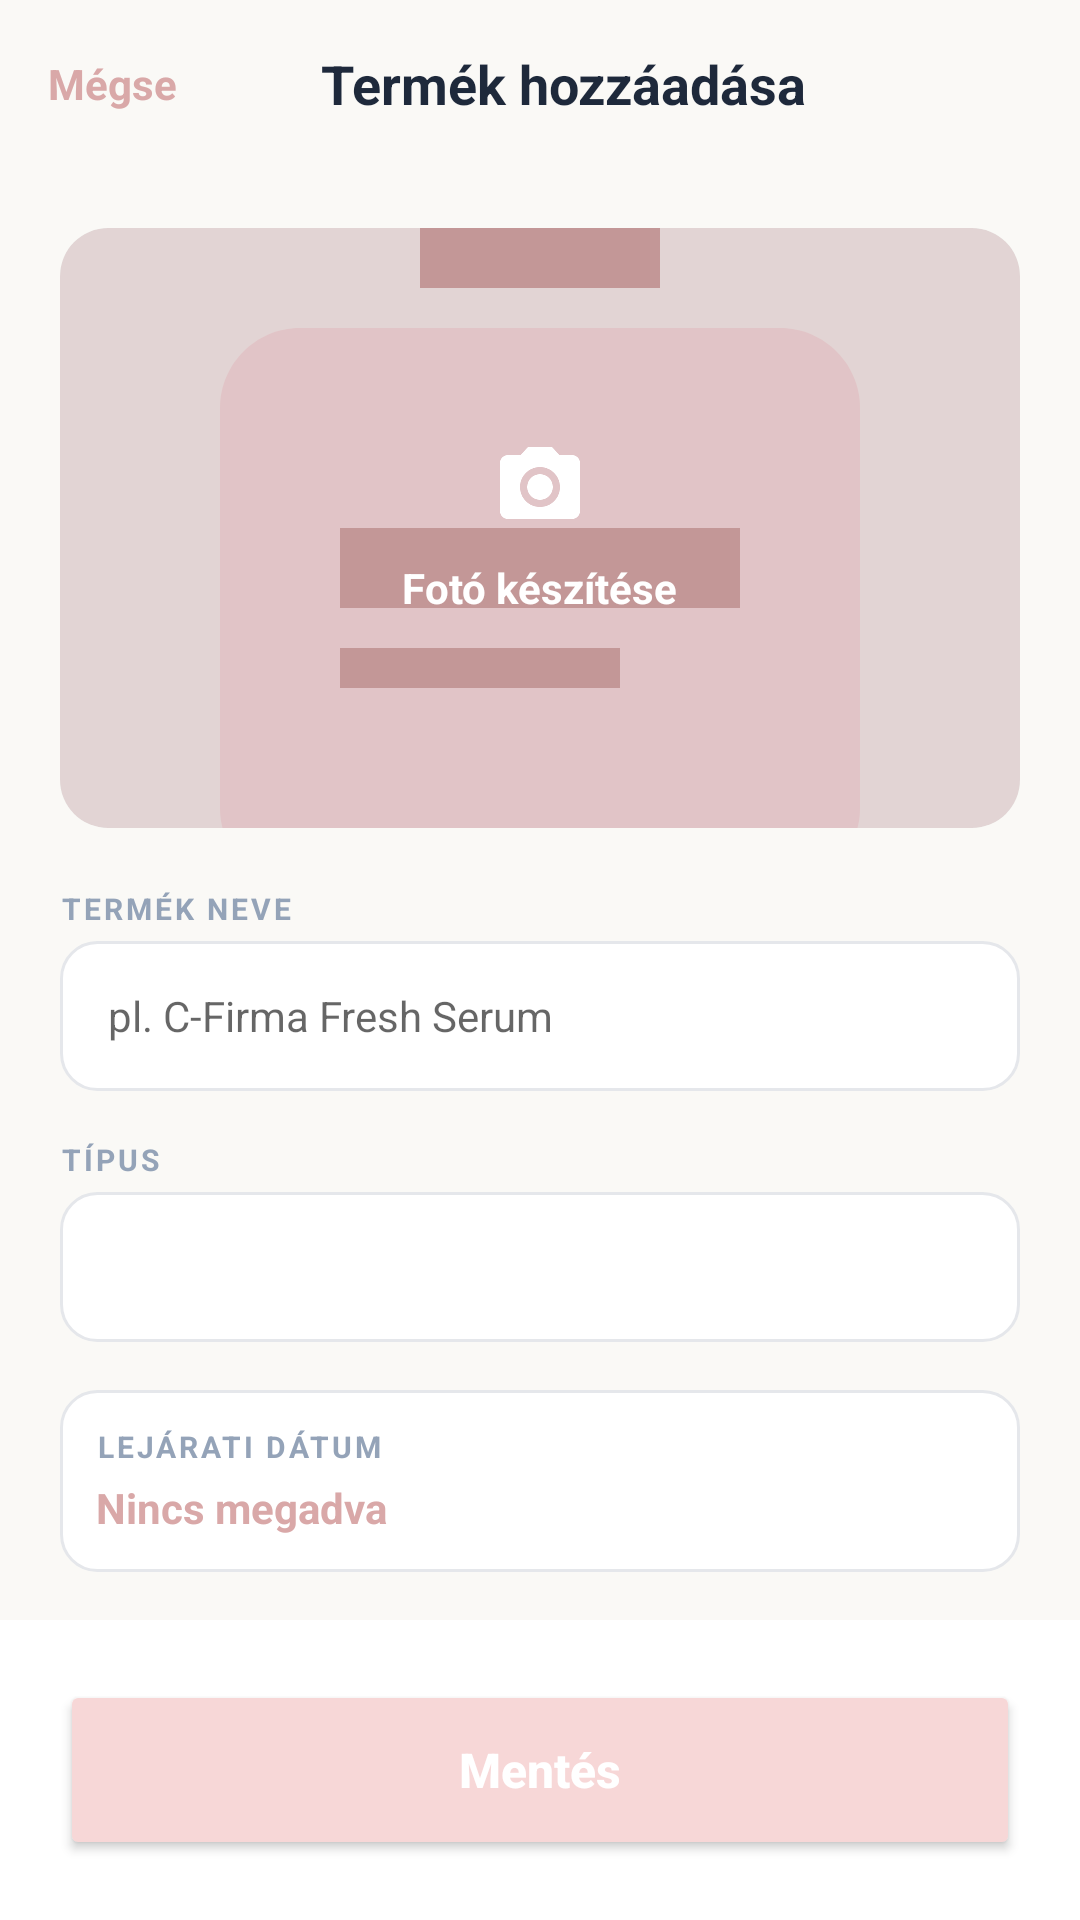

Icon bounding boxes for this 1080px×1920px phone screenshot, format [x1, y1, x2, y2]:
camera: [500, 447, 580, 519]
